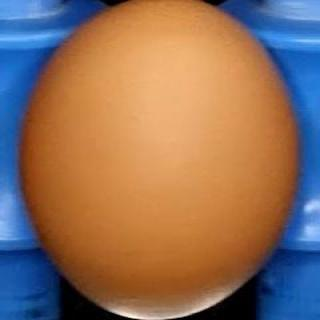Telur: (15, 1, 311, 320)
